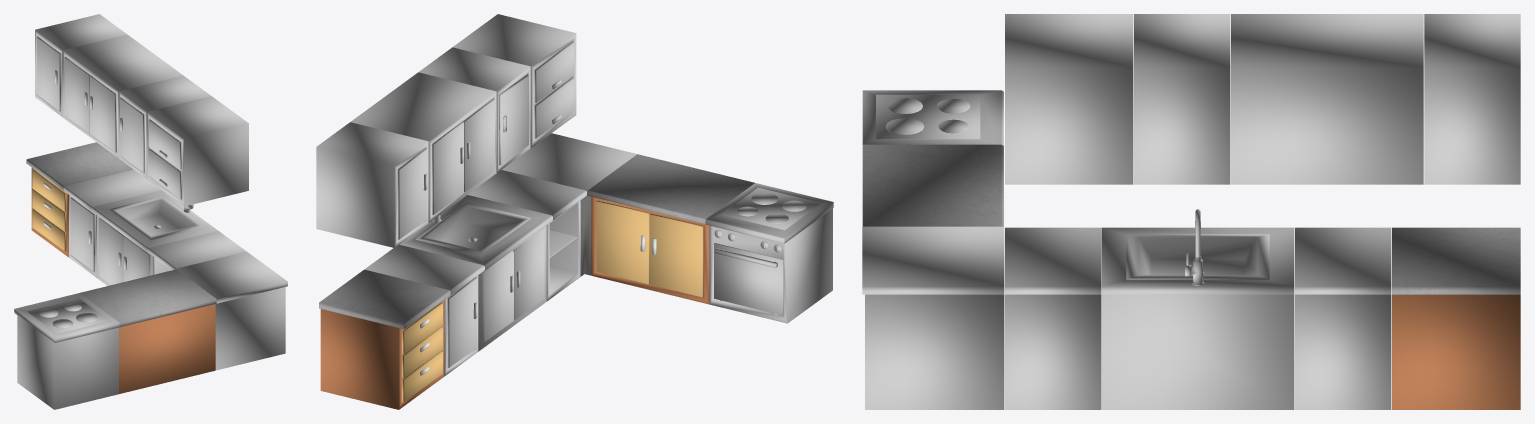
The model's file is fartuc.obj.
3 renders of one model, left to right at view 1: azimuth 30°, elevation 25°; view 2: azimuth 150°, elevation 25°; view 3: azimuth 270°, elevation 25°, orthographic. The views are drawn at different scales.
Parts seen in each view (by area): view 1: obj8, obj22, obj18, obj19, obj24, obj11, obj14, obj2, obj4, obj6, obj1, obj12 (+9 smaller); view 2: obj14, obj24, obj22, obj6, obj8, obj11, obj1, obj18, obj19, obj23, obj9, obj10 (+12 smaller); view 3: obj24, obj11, obj18, obj14, obj19, obj1, obj2, obj4, obj6, obj8, obj22.
Boxes of the visible parts, bbox=[...] form: obj8: bbox=[79, 269, 216, 393]; obj22: bbox=[14, 293, 119, 409]; obj18: bbox=[176, 251, 287, 370]; obj19: bbox=[147, 96, 248, 206]; obj24: bbox=[91, 190, 218, 285]; obj11: bbox=[63, 34, 182, 158]; obj14: bbox=[26, 142, 133, 257]; obj2: bbox=[63, 169, 161, 277]; obj4: bbox=[119, 75, 210, 178]; obj6: bbox=[35, 14, 126, 117]; obj1: bbox=[147, 231, 246, 274]; obj12: bbox=[90, 75, 116, 152]; obj14: bbox=[319, 269, 450, 409]; obj24: bbox=[400, 195, 552, 351]; obj22: bbox=[705, 183, 833, 323]; obj6: bbox=[316, 122, 428, 247]; obj8: bbox=[587, 154, 754, 304]; obj11: bbox=[350, 72, 496, 222]; obj1: bbox=[467, 170, 586, 301]; obj18: bbox=[502, 133, 636, 276]; obj19: bbox=[453, 14, 576, 147]; obj23: bbox=[714, 243, 783, 315]; obj9: bbox=[650, 213, 703, 297]; obj10: bbox=[596, 200, 649, 284]; obj24: bbox=[1101, 209, 1294, 409]; obj11: bbox=[1231, 14, 1423, 184]; obj18: bbox=[862, 226, 1004, 409]; obj14: bbox=[1392, 227, 1520, 409]; obj19: bbox=[1005, 14, 1133, 184]; obj1: bbox=[1005, 227, 1101, 409]; obj2: bbox=[1295, 227, 1391, 409]; obj4: bbox=[1134, 14, 1230, 184]; obj6: bbox=[1424, 14, 1520, 184]; obj8: bbox=[862, 144, 1003, 226]; obj22: bbox=[862, 90, 1003, 145].
Bounding box in the file's own units: 8.76 × 7.16 × 12.3.
